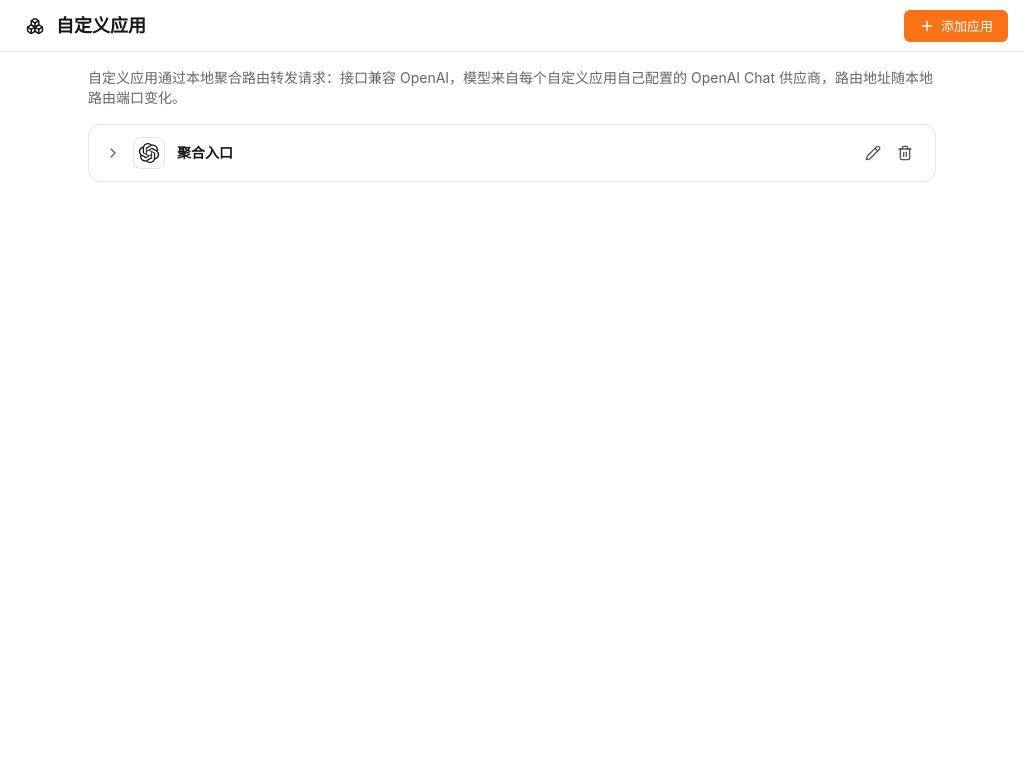
Test case: CustomAppsPage 删除与重置 Key › 删除：确认后调用 deleteCustomApp
The image size is (1024, 768).
Later steps or results of the test are not shown.
Expected: the text "聚合入口" is shown, [177,143,233,163]
What coordinates should you click on to do the following:
click the button named "删除"
I would click on:
 (905, 153)
Its box is [891,139,919,167].
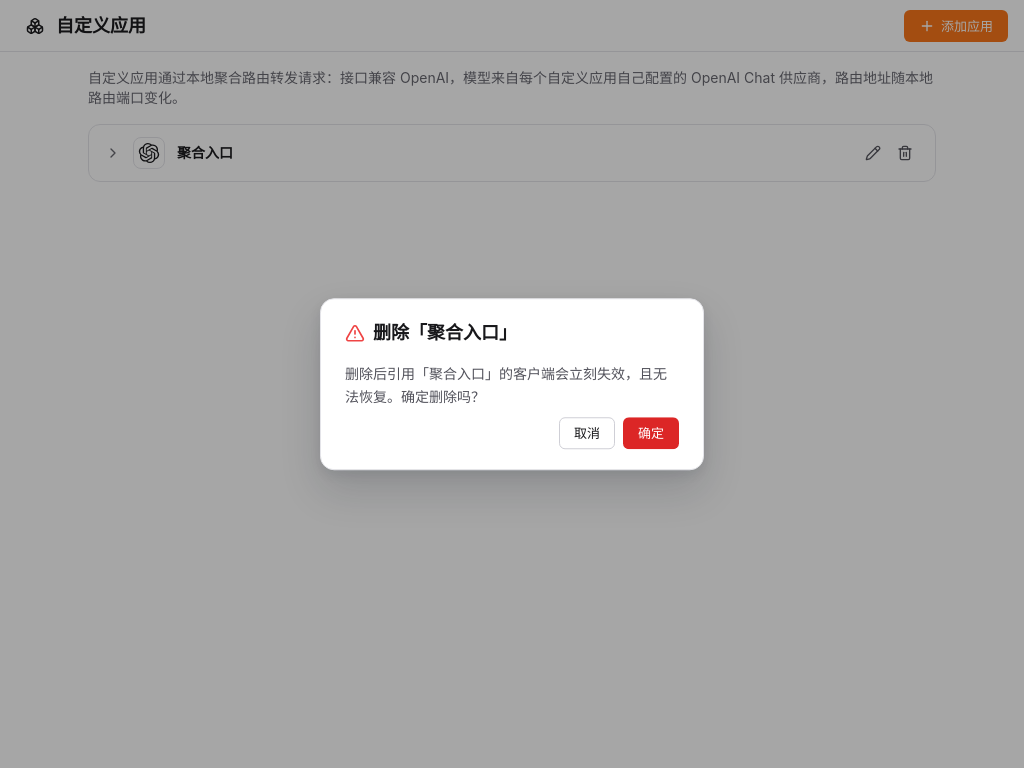
Expected: the heading "删除「聚合入口」" is shown, [345,322,517,343]
